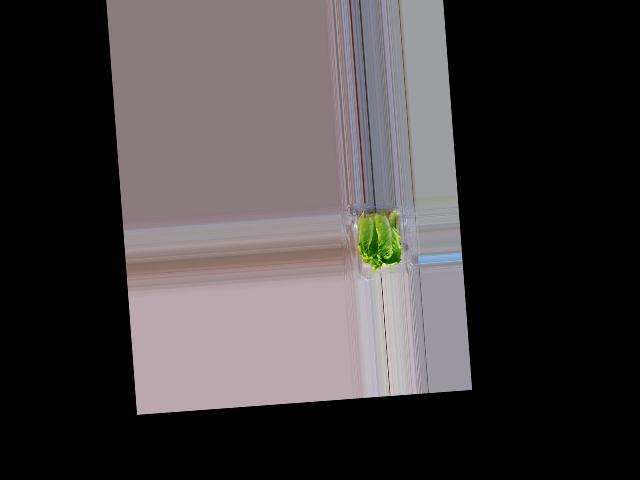lettuce: (355, 212, 403, 271)
